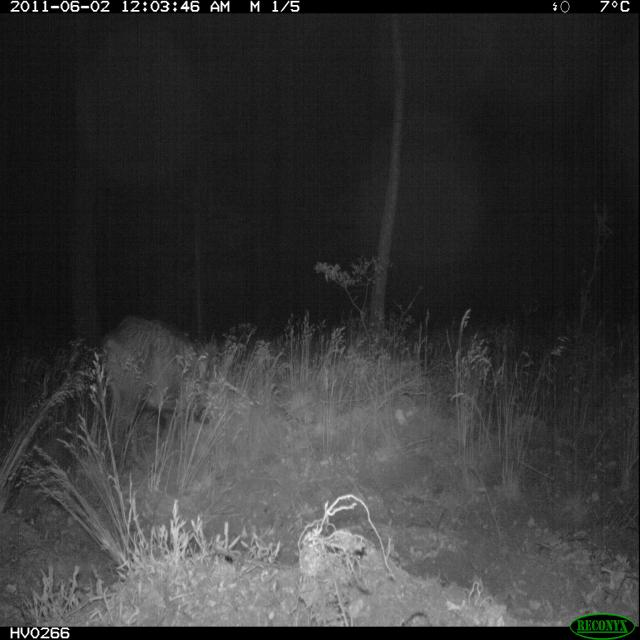boar: (76, 300, 227, 456), (262, 250, 376, 366)
